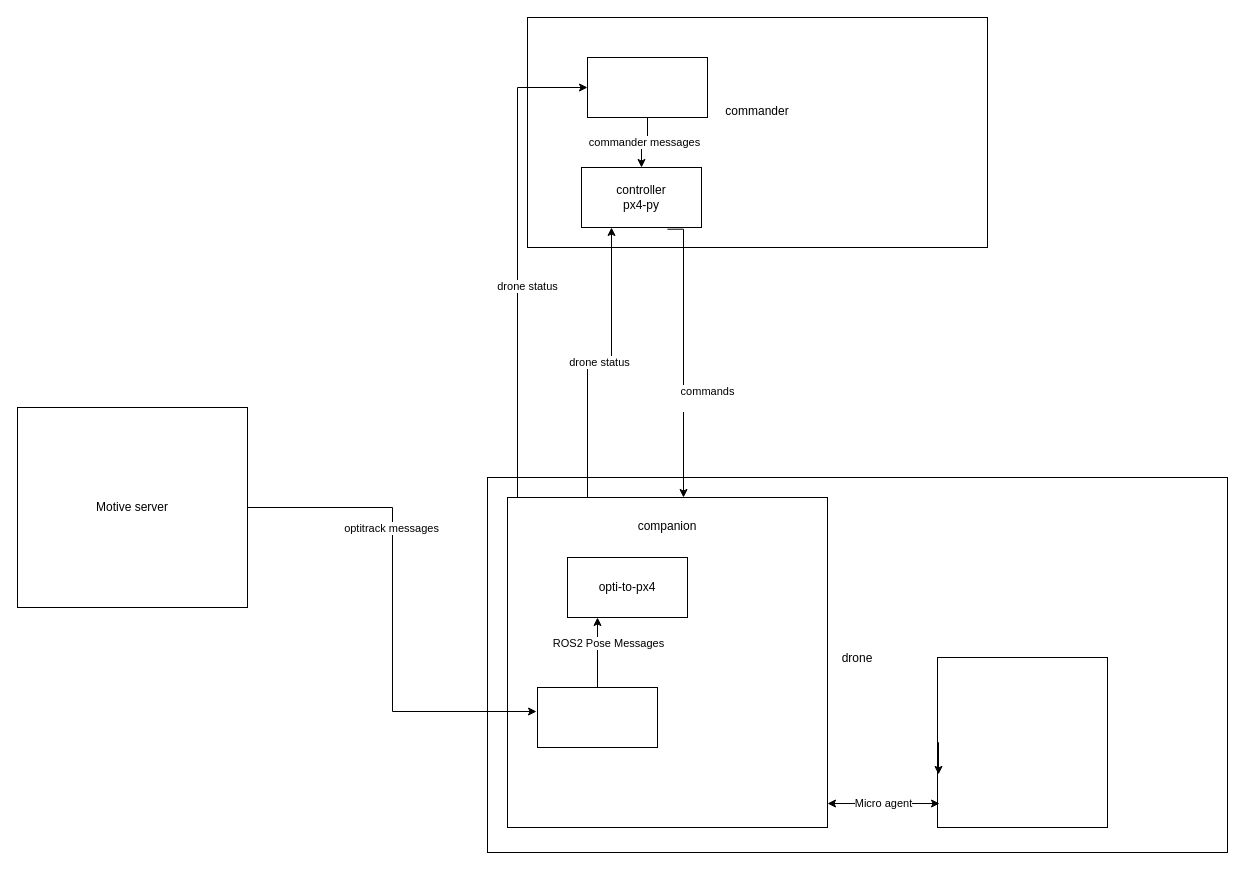
The diagram is 1245 pixels wide and 870 high, and some of its shapes have lost their labels. Here are the shapes that lost their labels. From the top down, the centre of each, then its label:
At (647,87): "gui".
At (597,717): "optitrack client".
At (1022,742): "flight controller".
